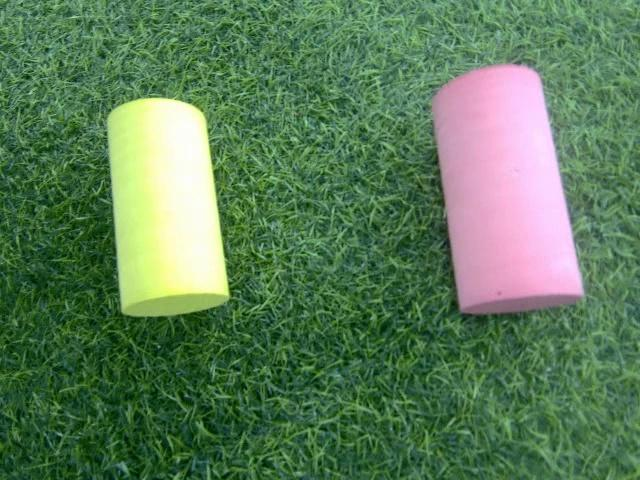red_cylinder: (420, 60, 589, 321)
yellow_cylinder: (102, 95, 236, 321)
